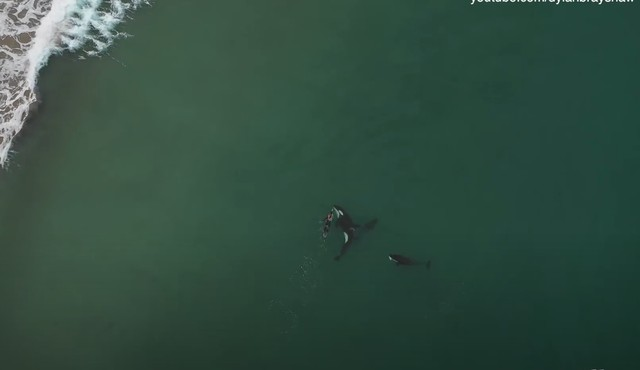whale: (333, 202, 359, 266), (378, 249, 438, 272)
